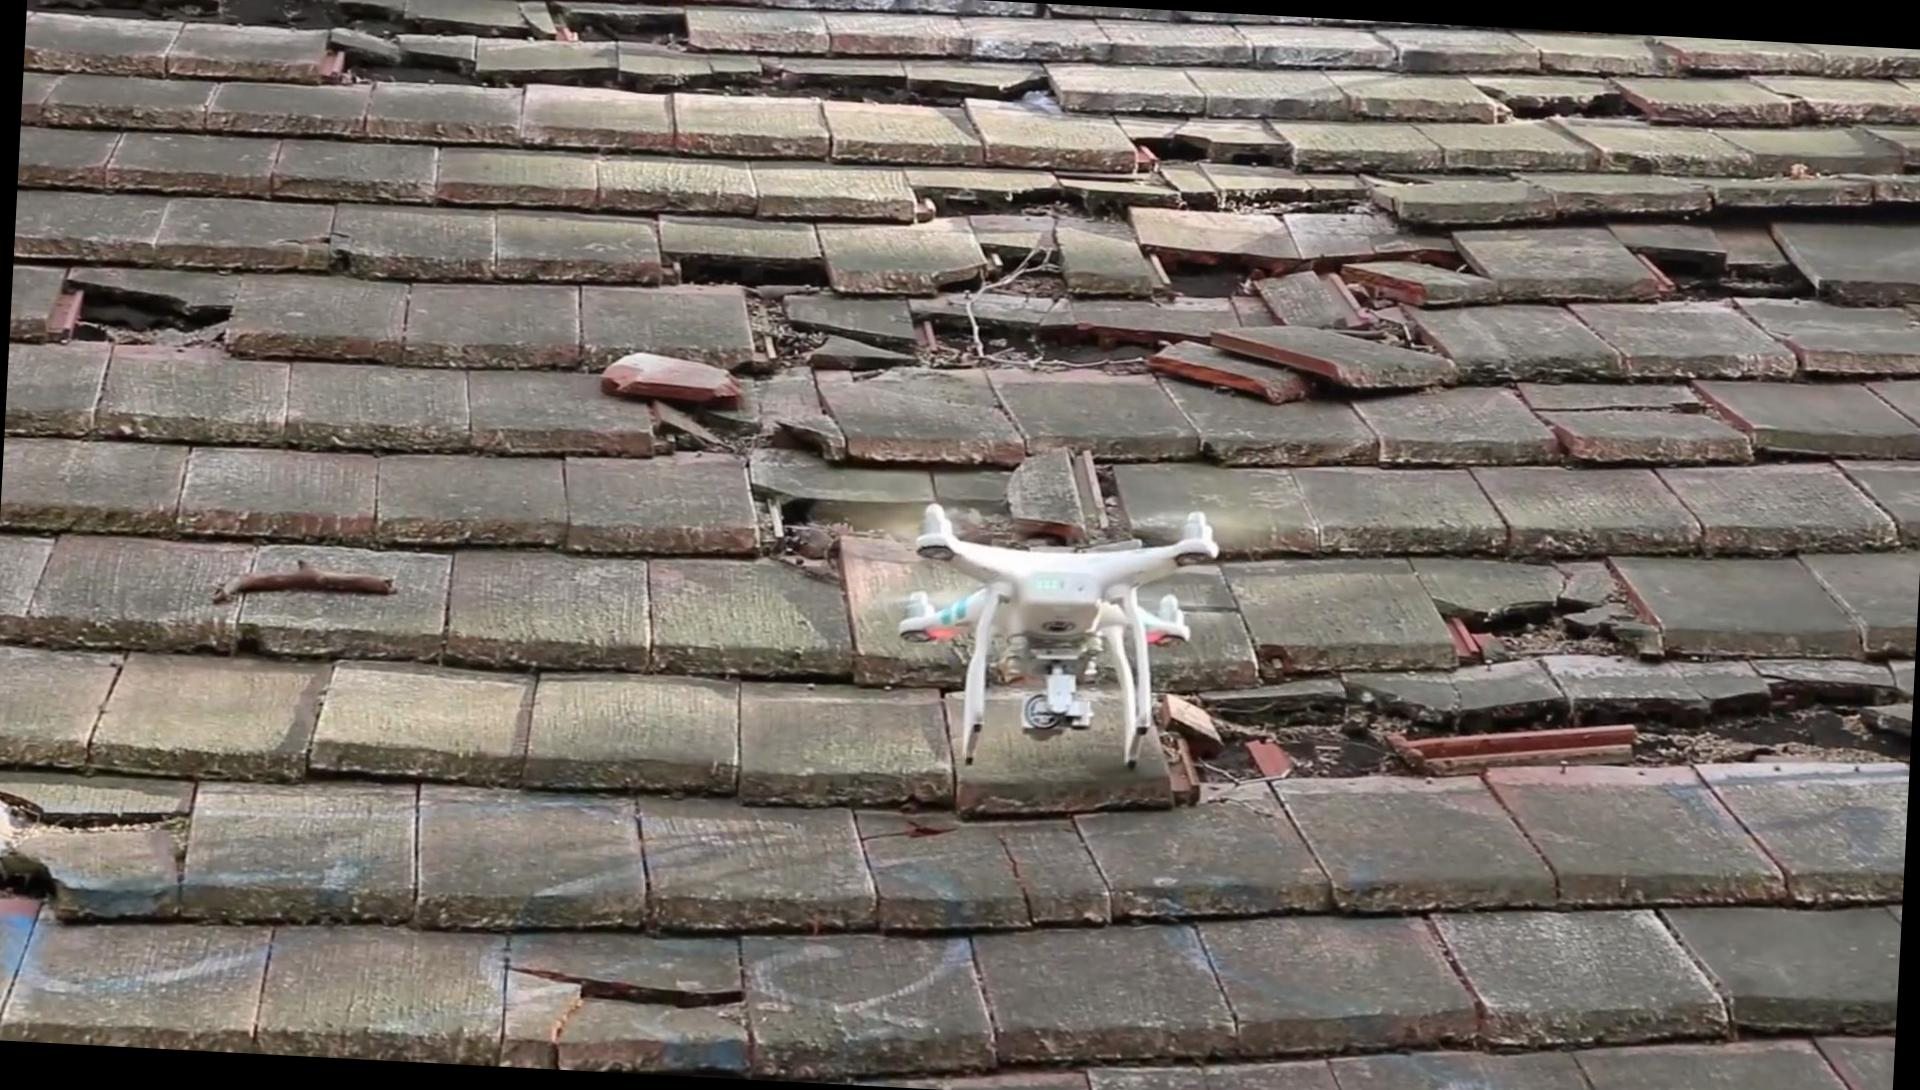drone: (877, 484, 1230, 782)
